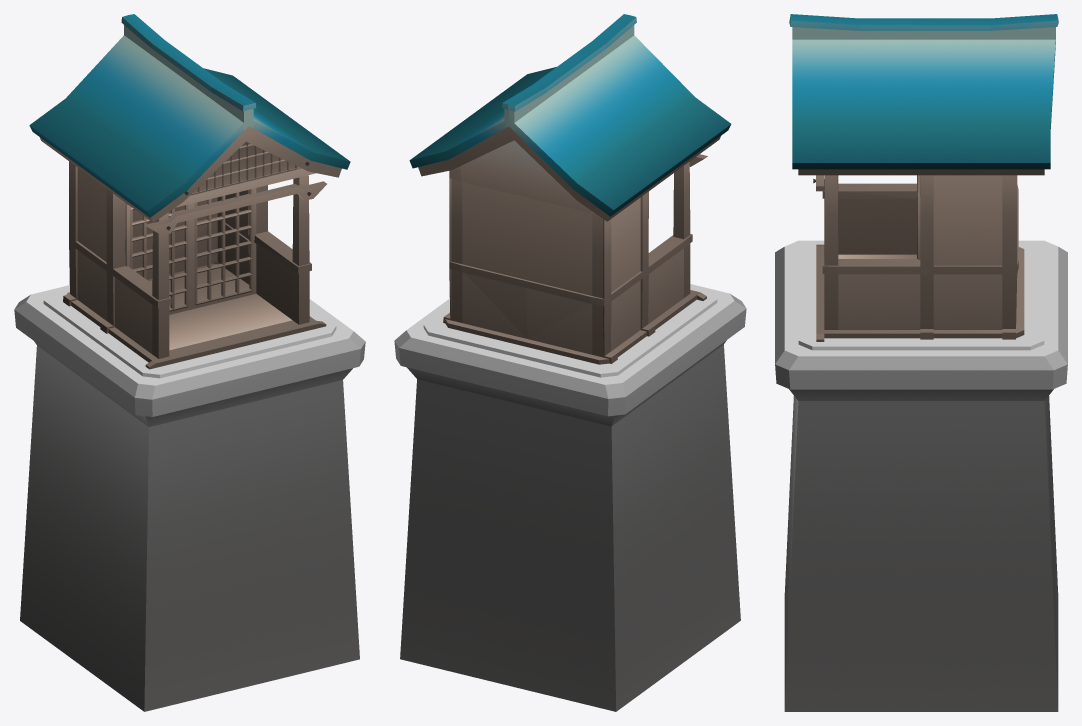
3 renders of one model, left to right at view 1: azimuth 30°, elevation 25°; view 2: azimuth 150°, elevation 25°; view 3: azimuth 270°, elevation 25°, orthographic. The views are drawn at different scales.
Visible parts, largest first — view 1: shrine_base, shinto_house_base, shinto_roof_02, shinto_door, shinto_roof_01, shinto_house_beam_01; view 2: shrine_base, shinto_house_base, shinto_roof_02, shinto_roof_01; view 3: shrine_base, shinto_roof_02, shinto_house_base, shinto_roof_01.
Part boxes in pixels (x1=…): shrine_base: x1=14, y1=285, x2=365, y2=711; shinto_house_base: x1=63, y1=142, x2=326, y2=369; shinto_roof_02: x1=29, y1=14, x2=350, y2=217; shinto_door: x1=125, y1=188, x2=256, y2=314; shinto_roof_01: x1=39, y1=126, x2=341, y2=222; shinto_house_beam_01: x1=145, y1=181, x2=326, y2=235; shrine_base: x1=394, y1=284, x2=746, y2=711; shinto_house_base: x1=443, y1=140, x2=706, y2=364; shinto_roof_02: x1=409, y1=14, x2=731, y2=216; shinto_roof_01: x1=418, y1=126, x2=720, y2=221; shrine_base: x1=775, y1=240, x2=1067, y2=711; shinto_roof_02: x1=789, y1=14, x2=1058, y2=169; shinto_house_base: x1=816, y1=175, x2=1024, y2=341; shinto_roof_01: x1=798, y1=169, x2=1044, y2=175.
Size of the model in its own units: 21.07 by 50.55 by 21.07.
6 materials, 4 textured.
